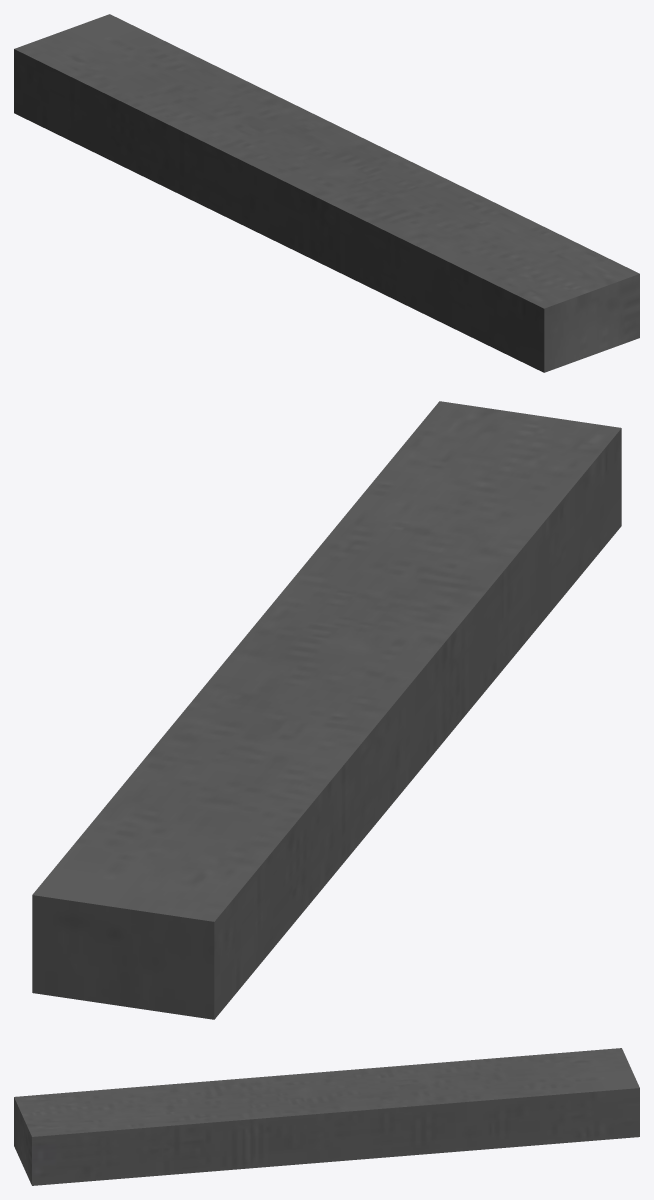
File: frame__seat_upright_1.glb
The picture shows the model from 3 angles, top to bottom: view 1: azimuth 30°, elevation 25°; view 2: azimuth 150°, elevation 25°; view 3: azimuth 270°, elevation 25°; orthographic projection. The views are drawn at different scales.
Visible parts, largest first — view 1: world; view 2: world; view 3: world.
Part boxes in pixels (x1=…): world: x1=14, y1=14, x2=639, y2=372; world: x1=32, y1=401, x2=621, y2=1019; world: x1=14, y1=1048, x2=639, y2=1185.
Size of the model in its own units: 0.1091 by 0.028 by 0.3244.
1 material, 1 textured.
